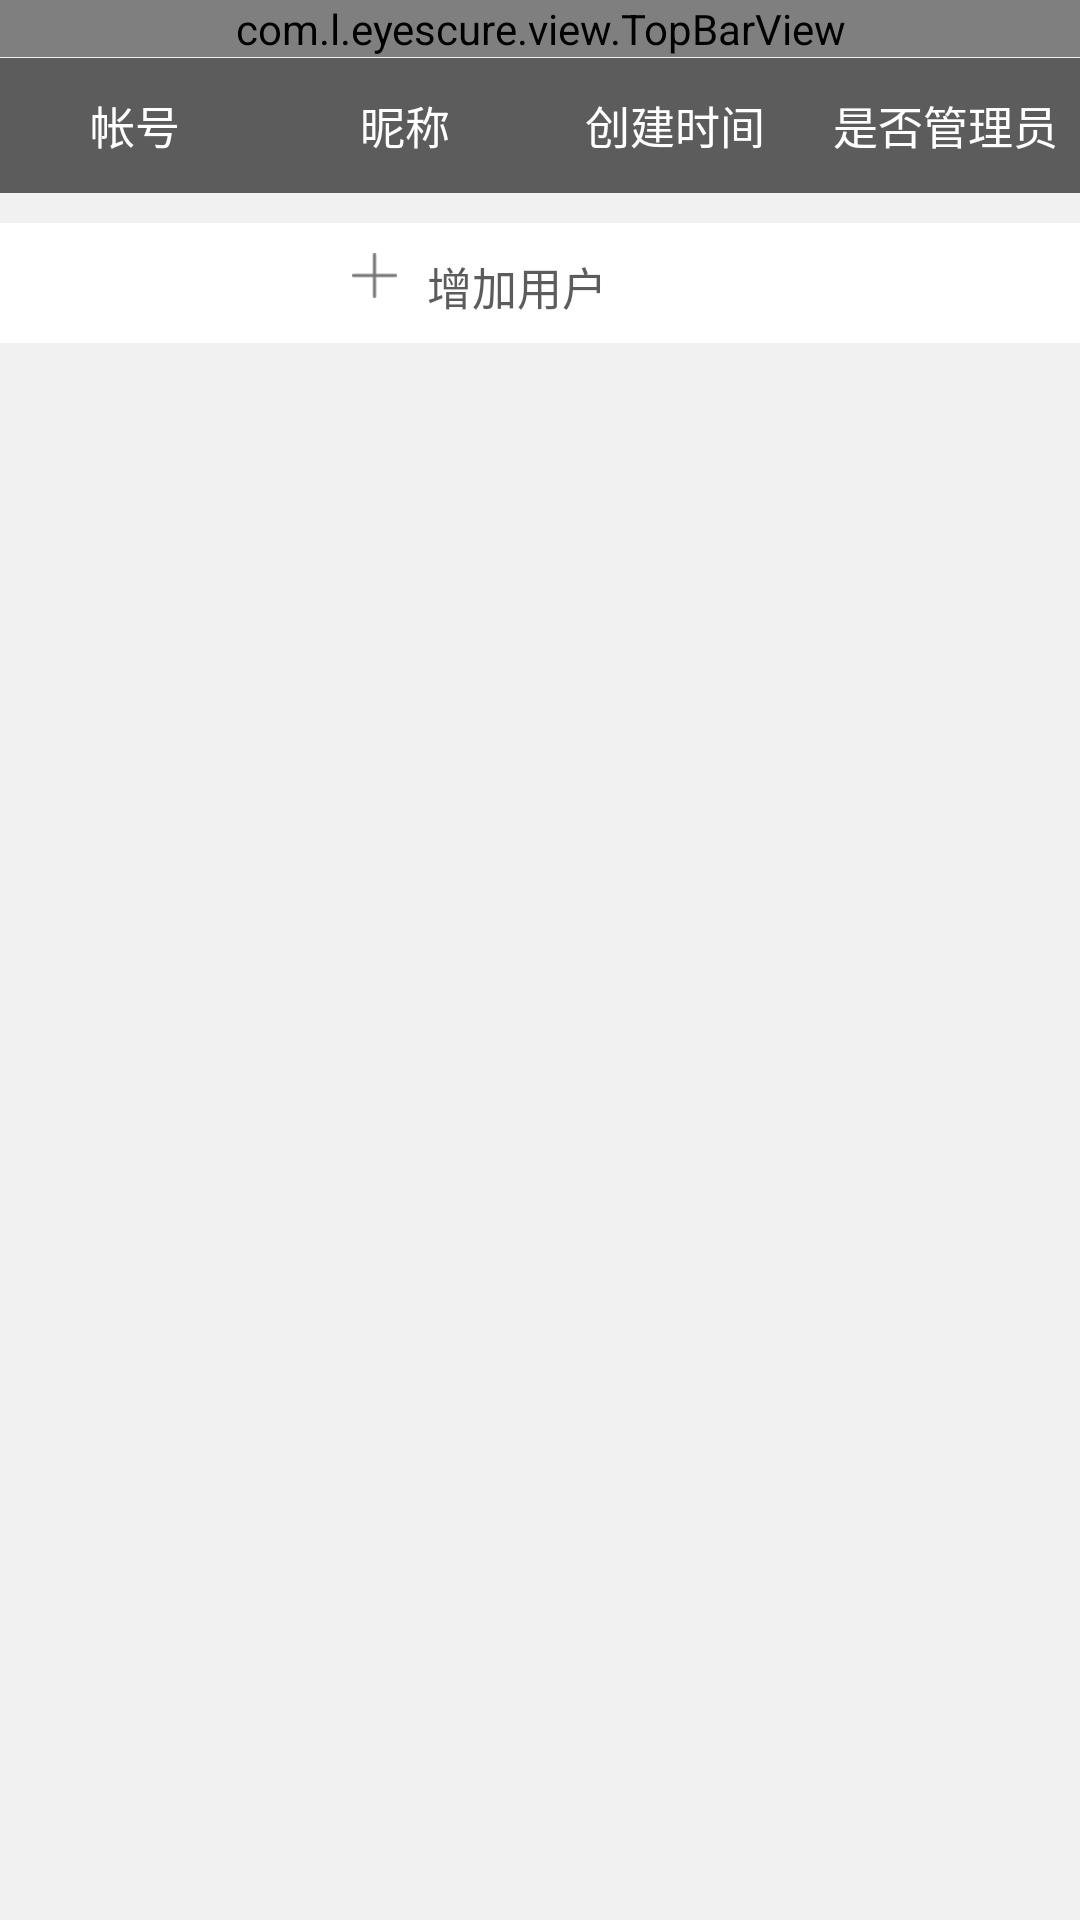

Screen size 1080×1920. Icon name, then its center in pixels as point (x, y):
add account: point (374, 275)
